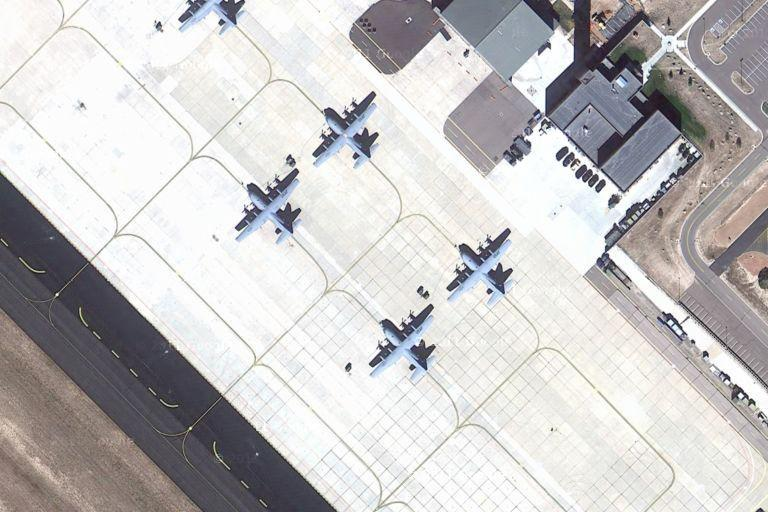C-130: (230, 172, 307, 247), (445, 236, 522, 308), (310, 97, 383, 169), (365, 310, 440, 380)
